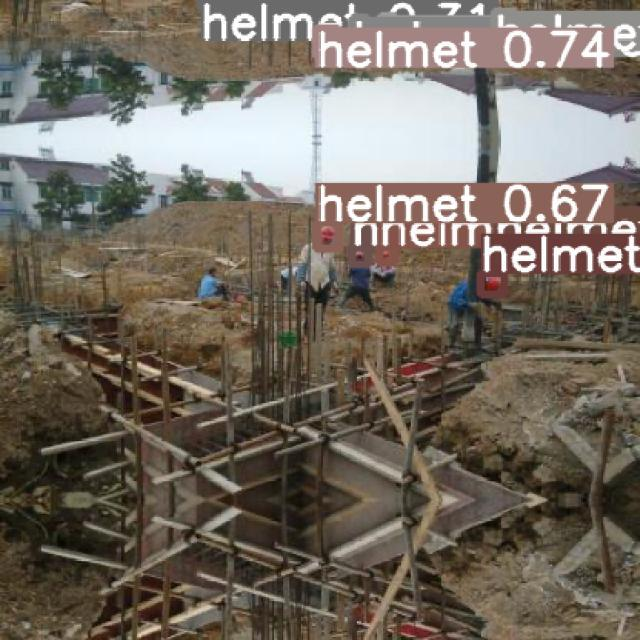Helmet: (320, 225, 335, 241)
